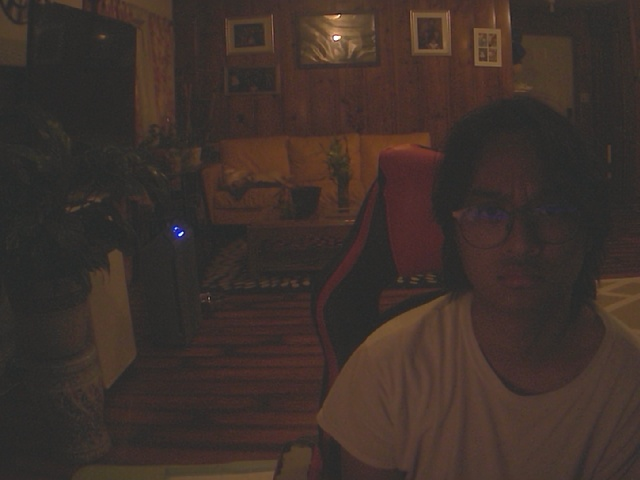anger: (432, 93, 611, 314)
